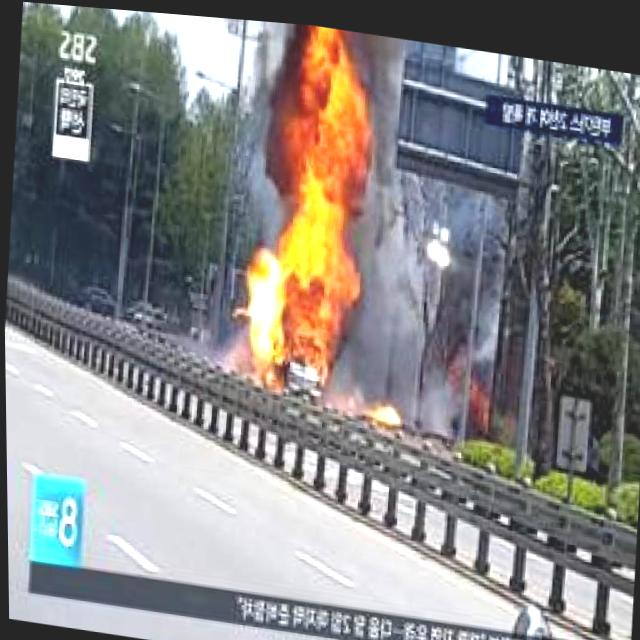helmet: (262, 17, 380, 257), (245, 235, 361, 373), (356, 397, 397, 420)
